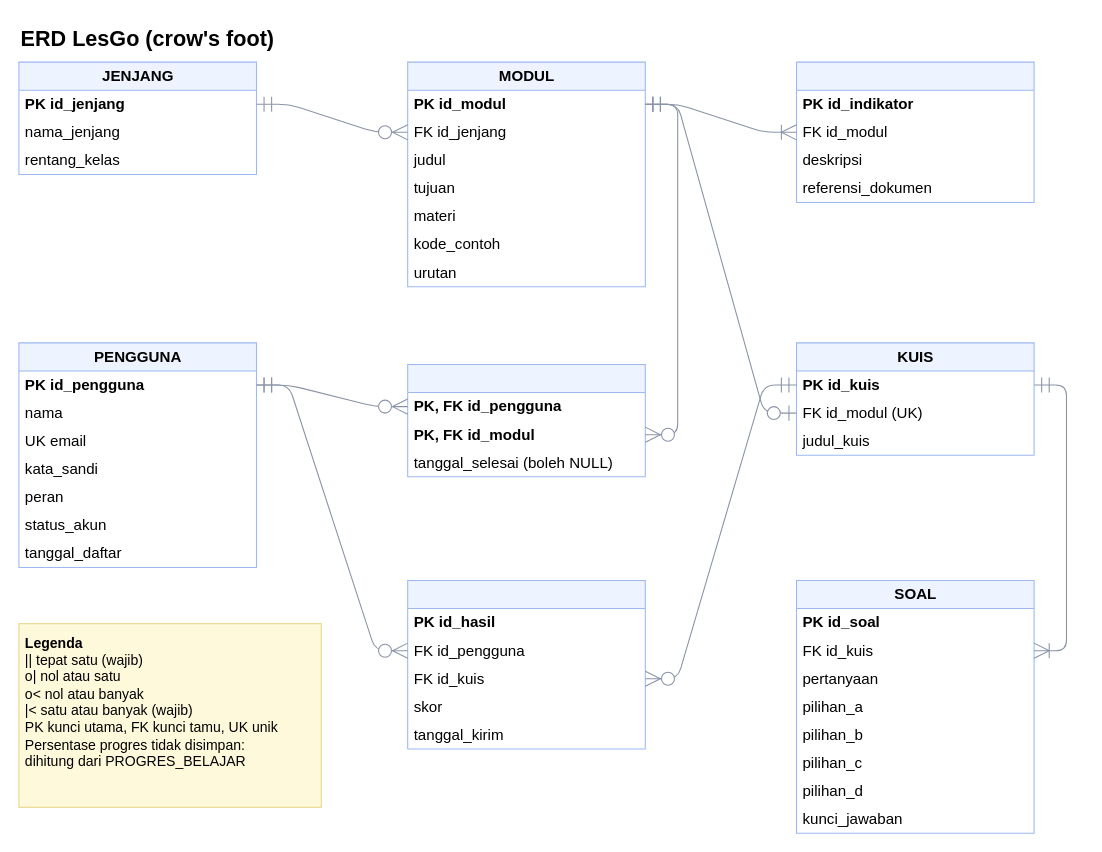
The diagram is 1102 pixels wide and 852 high, and some of its shapes have lost their labels. The shapes that lost their labels are listed below. From the top down, each one's box as (x1, y1, x2, y2) in pixels, then its label:
(795, 61, 1034, 202): INDIKATOR_KURIKULUM
(407, 363, 645, 477): PROGRES_BELAJAR
(407, 579, 645, 749): HASIL_KUIS
